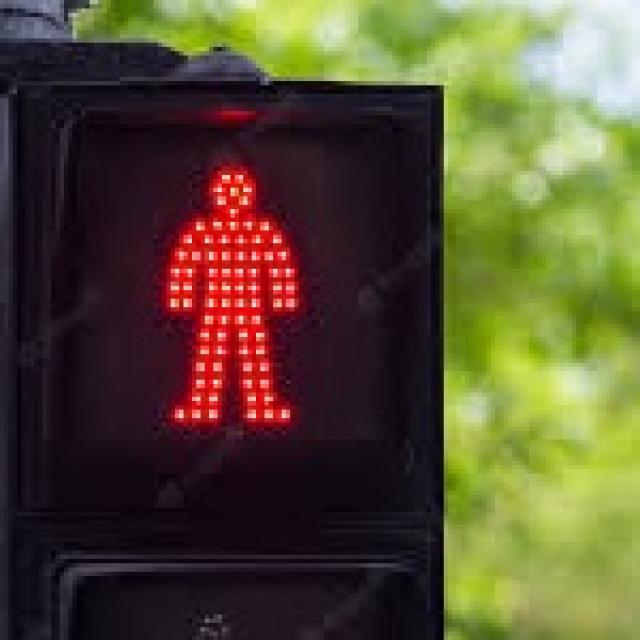red_light: (124, 128, 324, 448)
